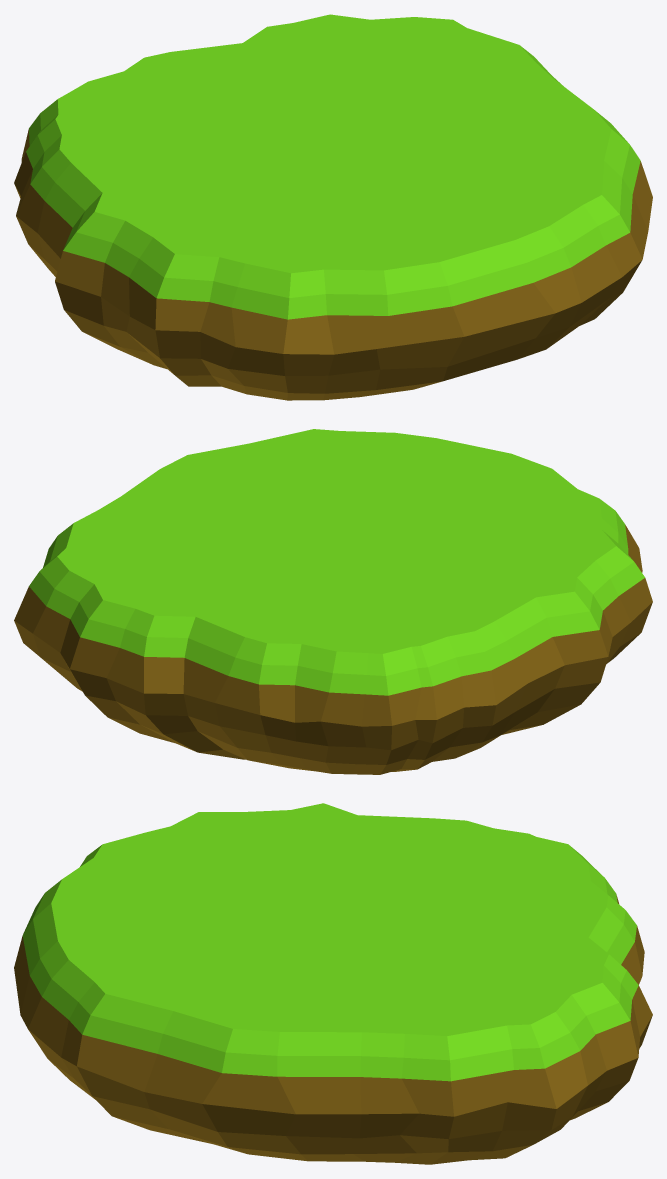
File: land3.fbx
The picture shows the model from 3 angles, top to bottom: view 1: azimuth 30°, elevation 25°; view 2: azimuth 150°, elevation 25°; view 3: azimuth 270°, elevation 25°; orthographic projection. The views are drawn at different scales.
Visible parts, largest first — view 1: Plane; view 2: Plane; view 3: Plane.
Boxes of the visible parts, x1,y1,x2,y2 form: Plane: (14,14,652,400); Plane: (14,429,652,774); Plane: (14,803,652,1164).
Bounding box in the file's own units: 632 × 197 × 636.
Materials: 1 (1 with a texture image).
